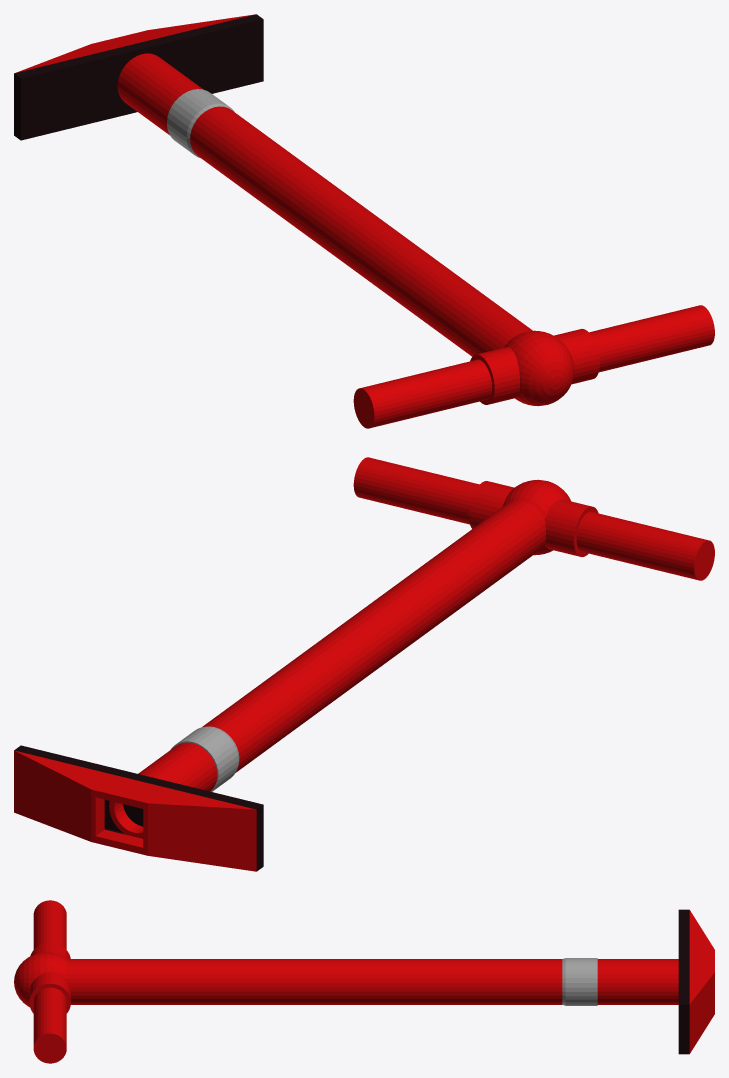
The model's file is pogo3.fbx.
The picture shows the model from 3 angles, top to bottom: view 1: azimuth 30°, elevation 25°; view 2: azimuth 150°, elevation 25°; view 3: azimuth 270°, elevation 25°; orthographic projection. The views are drawn at different scales.
Visible parts, largest first — view 1: YLEMPI, ALEMPI; view 2: YLEMPI, ALEMPI; view 3: YLEMPI, ALEMPI.
Part boxes in pixels (box(x1,y1,x2,y2)): YLEMPI: box(14, 14, 714, 428); ALEMPI: box(167, 89, 234, 158); YLEMPI: box(14, 457, 714, 871); ALEMPI: box(171, 726, 239, 791); YLEMPI: box(14, 900, 714, 1063); ALEMPI: box(562, 958, 597, 1005).
Size of the model in its own units: 1379 by 261 by 3067.
